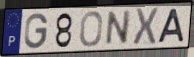8: (55, 12, 73, 49)
A: (156, 7, 186, 44)
G: (23, 12, 50, 51)
N: (104, 9, 133, 46)
O: (78, 10, 104, 48)
X: (131, 7, 160, 48)
